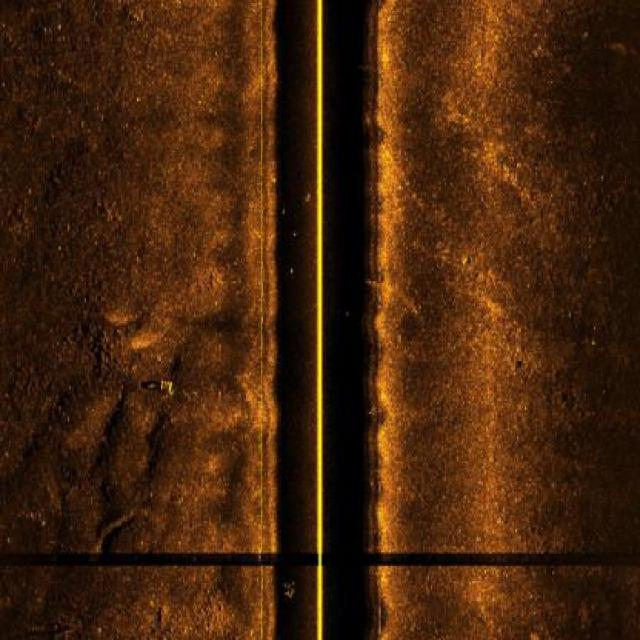mine: (153, 378, 173, 397)
